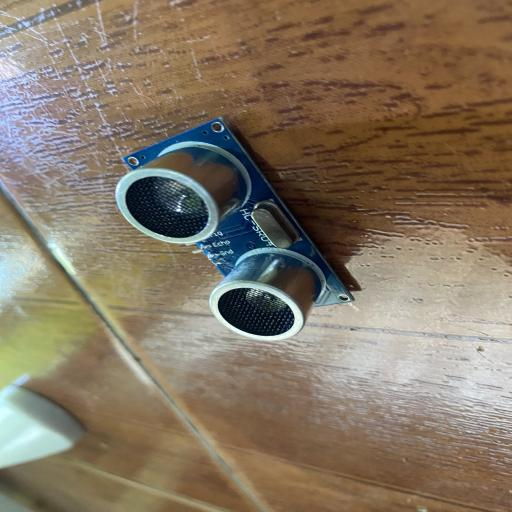Ultrasonic Sensor: (115, 115, 356, 343)
